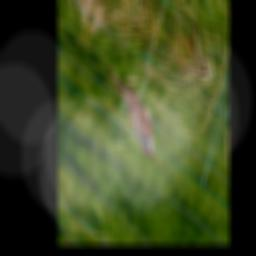Cuckoo: (92, 59, 171, 167)
